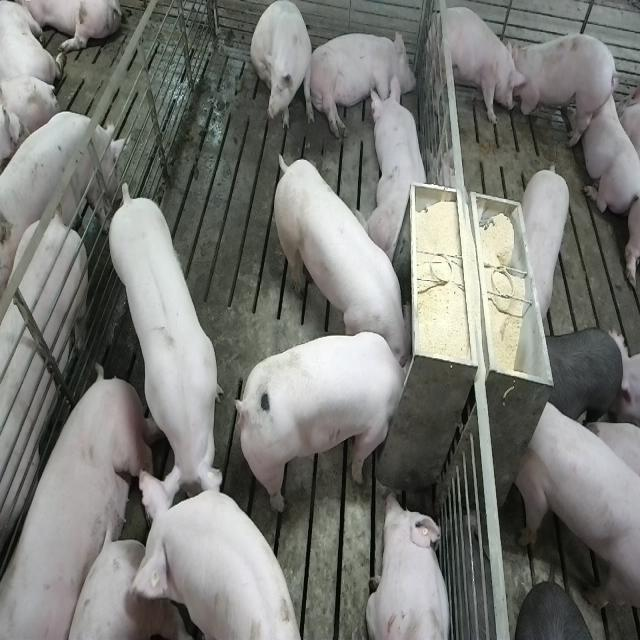Feeding: (244, 329, 418, 516), (270, 146, 411, 364)
Lateral_lying: (3, 365, 156, 640), (306, 26, 417, 140)
Sitting: (251, 3, 315, 138)
Standing: (103, 184, 224, 520), (0, 209, 89, 603), (126, 471, 300, 640), (515, 394, 638, 616), (0, 107, 122, 277), (512, 30, 616, 148), (432, 5, 524, 130), (521, 161, 573, 324), (544, 322, 626, 425)
Sternal_lying: (365, 489, 453, 640), (364, 75, 431, 262), (579, 80, 639, 214)
